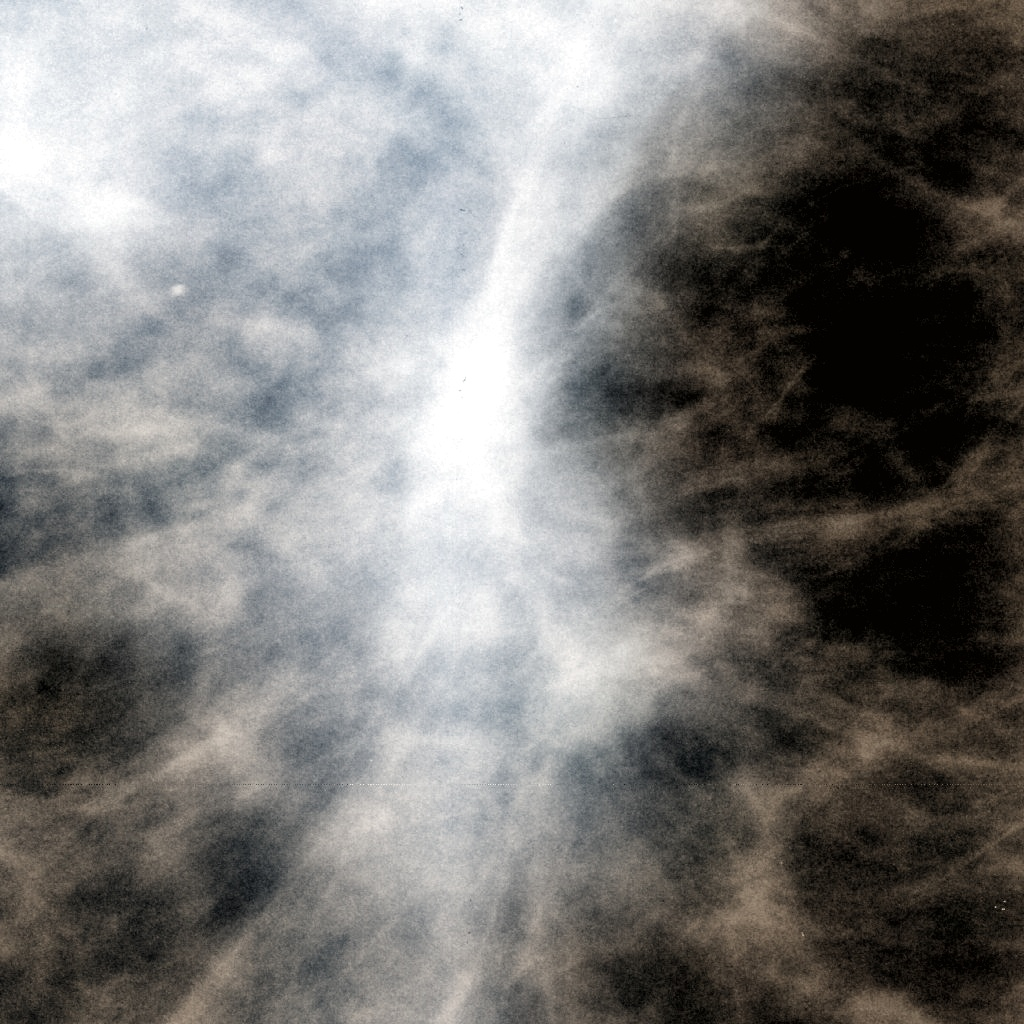tumor: (276, 266, 748, 758)
